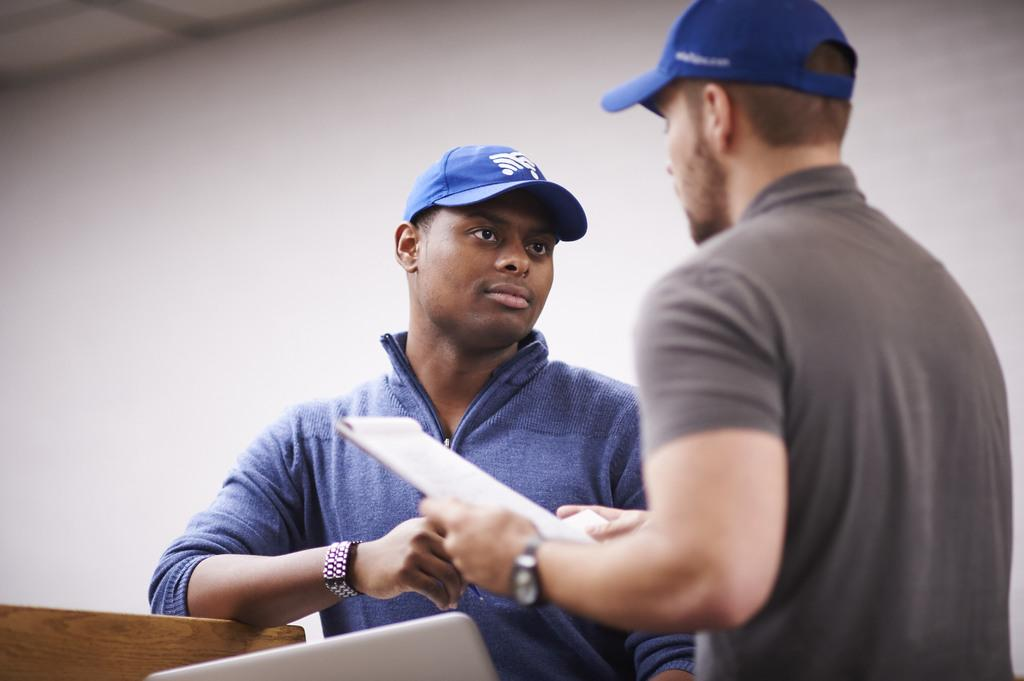Hat: (602, 0, 858, 114), (402, 140, 588, 242)
